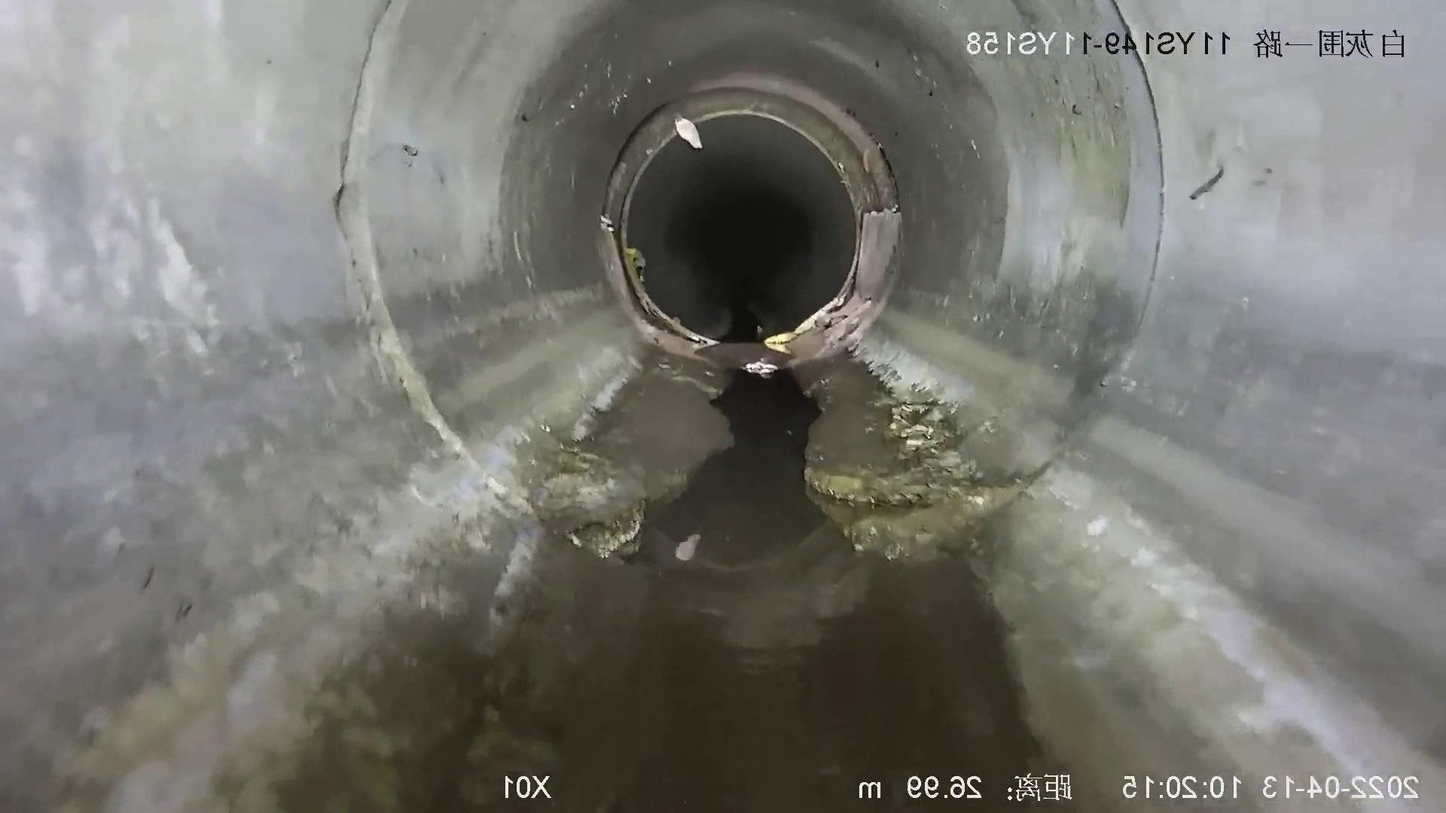CKTJ: (334, 0, 479, 469), (1077, 1, 1176, 408)
JG: (794, 358, 1037, 558), (538, 357, 734, 555)
